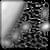node: (40, 8, 50, 22), (19, 22, 33, 32), (40, 22, 50, 32), (11, 32, 22, 41), (2, 40, 12, 48)
